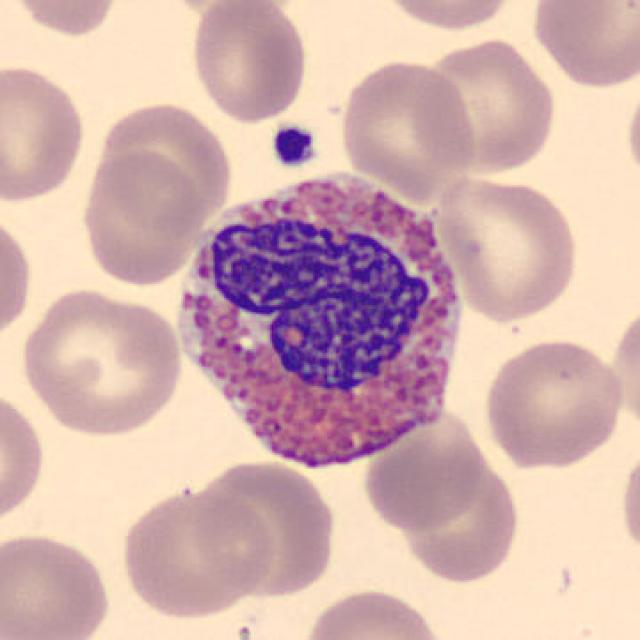Eosinophil: (160, 155, 482, 485)
Platelets: (268, 122, 320, 169)
RBC: (16, 282, 187, 439), (432, 171, 581, 324), (185, 458, 343, 600), (116, 482, 276, 622), (412, 34, 560, 176), (334, 56, 478, 201), (478, 333, 626, 471), (91, 100, 233, 237), (78, 144, 206, 278), (389, 462, 523, 589), (359, 404, 489, 534), (186, 0, 311, 123), (0, 527, 116, 640), (0, 60, 89, 206), (526, 0, 638, 92), (298, 583, 449, 640), (0, 383, 48, 534), (0, 205, 36, 349), (371, 0, 520, 33), (5, 0, 123, 39), (608, 298, 640, 439), (615, 439, 640, 568), (622, 69, 640, 199), (151, 0, 272, 14)
